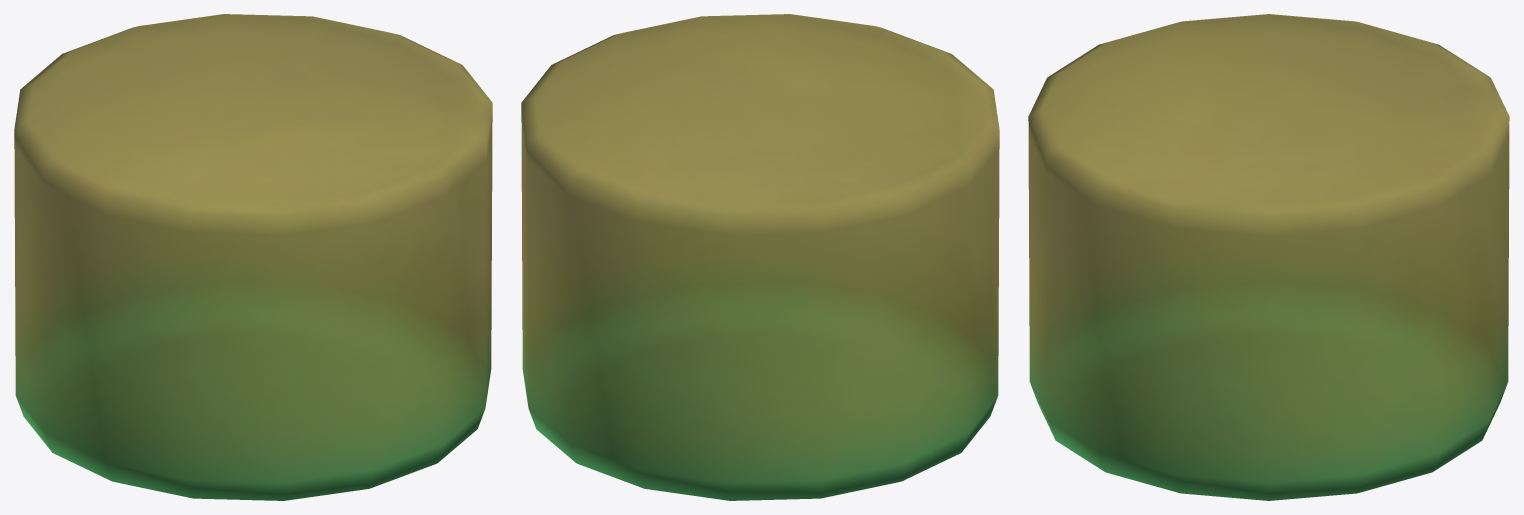
Rendered from bottle_content_e.glb.
3 views of the same model, side by side, from view 1: azimuth 30°, elevation 25°; view 2: azimuth 150°, elevation 25°; view 3: azimuth 270°, elevation 25° (orthographic).
Visible parts, largest first — view 1: chemistry_set_bottle_content_e.001; view 2: chemistry_set_bottle_content_e.001; view 3: chemistry_set_bottle_content_e.001.
Boxes of the visible parts, box(x1,y1,x2,y2) form: chemistry_set_bottle_content_e.001: box(14, 14, 492, 500); chemistry_set_bottle_content_e.001: box(521, 14, 999, 500); chemistry_set_bottle_content_e.001: box(1028, 14, 1509, 500).
Bounding box in the file's own units: 0.0454 × 0.0314 × 0.0454.
Materials: 1 (1 with a texture image).
